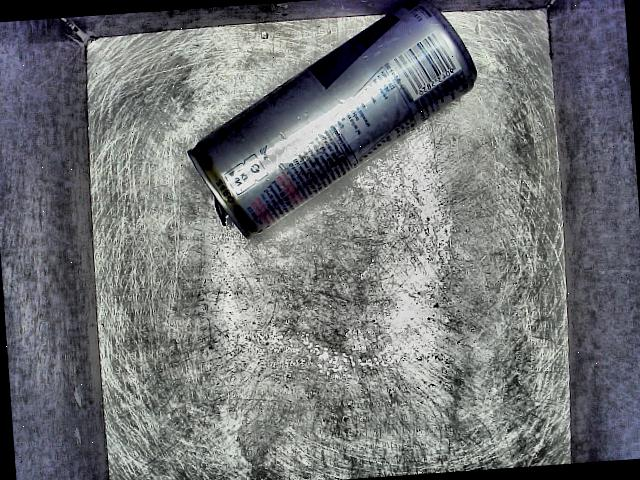Bottles: (169, 0, 492, 280)
